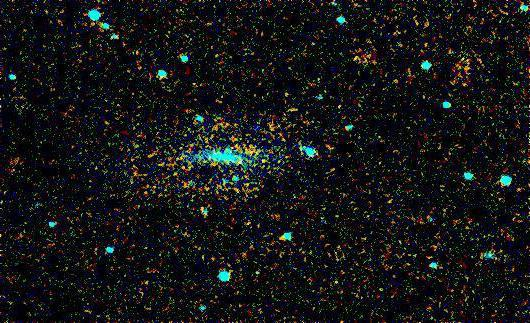star: (247, 109, 277, 139)
